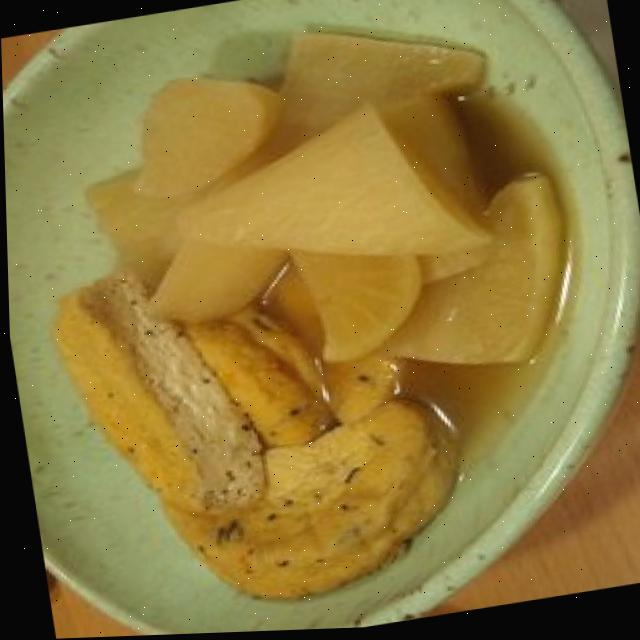熟制海鲜: (0, 0, 588, 634)
